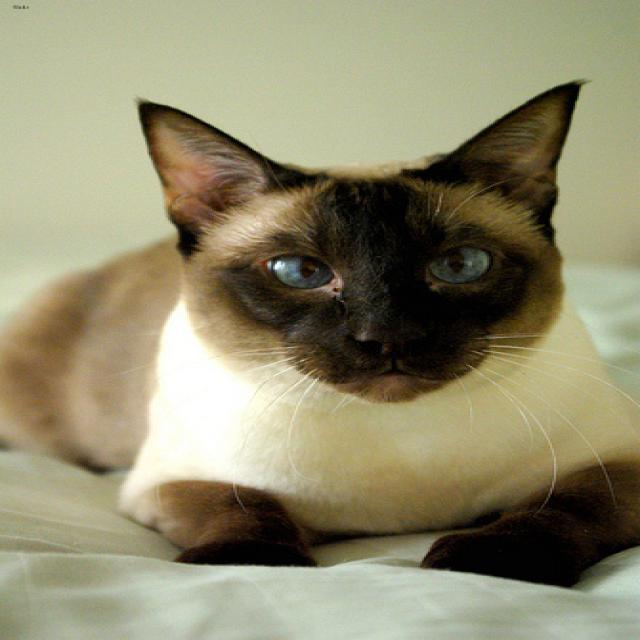Siamese: (134, 76, 608, 412)
